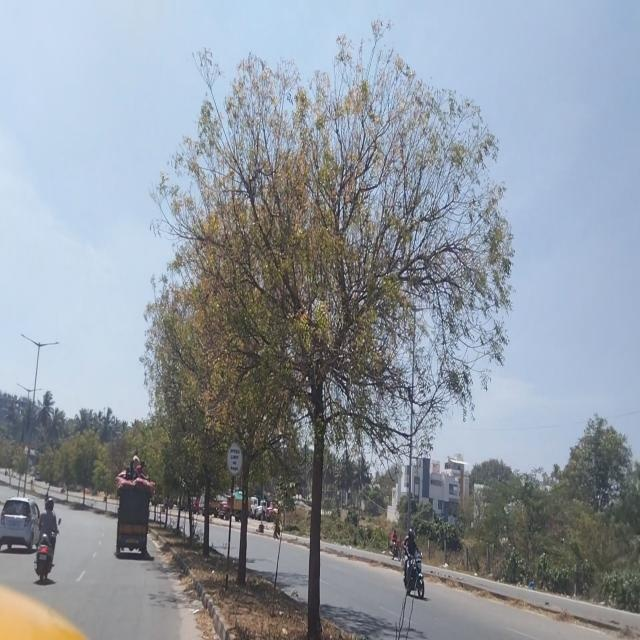bien_nguy_hiem: (227, 441, 242, 477)
